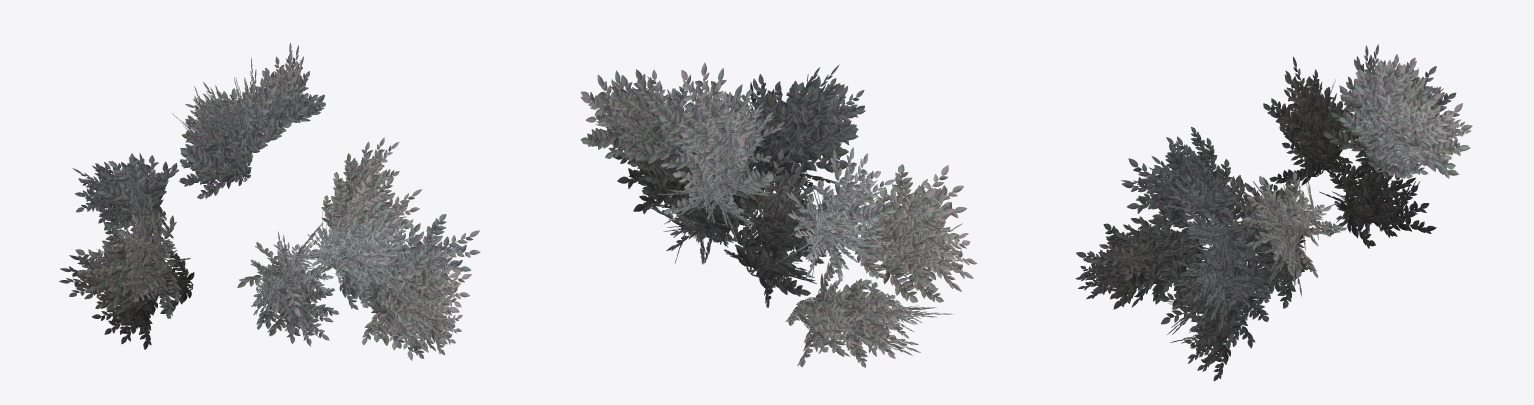
Rendered from oak_l0.gltf.
3 renders of one model, left to right at view 1: azimuth 30°, elevation 25°; view 2: azimuth 150°, elevation 25°; view 3: azimuth 270°, elevation 25°, orthographic. The views are drawn at different scales.
Parts seen in each view (by area): view 1: oak_l0; view 2: oak_l0; view 3: oak_l0.
Part boxes in pixels (bbox=[...]): oak_l0: bbox=[59, 42, 480, 360]; oak_l0: bbox=[580, 62, 977, 367]; oak_l0: bbox=[1075, 44, 1472, 380].
Size of the model in its own units: 14.43 by 9.79 by 13.64.
1 material, 1 textured.
